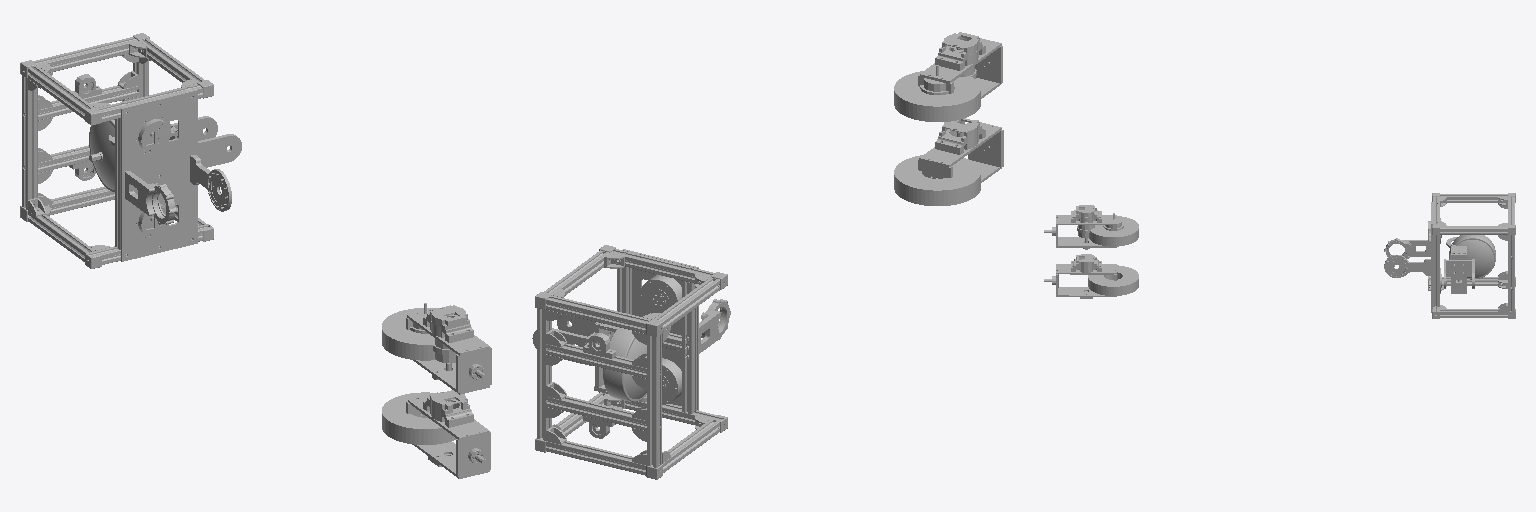
robot.urdf — wheeled_inverted_pendulum:
<?xml version="1.0" encoding="utf-8"?>
<!-- This URDF was automatically created by SolidWorks to URDF Exporter! Originally created by [author] ([email redacted]) 
     Commit Version: 1.6.0-4-g7f85cfe  Build Version: 1.6.7995.38578
     For more information, please see http://wiki.ros.org/sw_urdf_exporter -->
<robot
  name="wheeled_inverted_pendulum">
  <link
    name="cmg_link">
    <inertial>
      <origin
        xyz="0.0025631 1.1523E-05 1.0493"
        rpy="0 0 0" />
      <mass
        value="0.87703" />
      <inertia
        ixx="0.0030285"
        ixy="-2.6681E-08"
        ixz="1.9895E-06"
        iyy="0.0023124"
        iyz="-8.0686E-08"
        izz="0.0040816" />
    </inertial>
    <visual>
      <origin
        xyz="0 0 0"
        rpy="0 0 0" />
      <geometry>
        <mesh
          filename="package://cmg_robot_description/meshes/cmg_link.STL" scale="0.001 0.001 0.001"/>
      </geometry>
      <material
        name="">
        <color
          rgba="0.75294 0.75294 0.75294 1" />
      </material>
    </visual>
    <collision>
      <origin
        xyz="0 0 0"
        rpy="0 0 0" />
      <geometry>
        <mesh
          filename="package://cmg_robot_description/meshes/cmg_link.STL" scale="0.001 0.001 0.001"/>
      </geometry>
    </collision>
  </link>
  <link
    name="right_gimbal_link">
    <inertial>
      <origin
        xyz="7.5544E-18 2.0817E-15 -0.08"
        rpy="0 0 0" />
      <mass
        value="0.10901" />
      <inertia
        ixx="0.00038161"
        ixy="5.6624E-20"
        ixz="-3.8405E-19"
        iyy="0.00035801"
        iyz="7.4731E-18"
        izz="6.7406E-05" />
    </inertial>
    <visual>
      <origin
        xyz="0 0 0"
        rpy="0 0 0" />
      <geometry>
        <mesh
          filename="package://cmg_robot_description/meshes/right_gimbal_link.STL" scale="0.001 0.001 0.001"/>
      </geometry>
      <material
        name="">
        <color
          rgba="0.75294 0.75294 0.75294 1" />
      </material>
    </visual>
    <collision>
      <origin
        xyz="0 0 0"
        rpy="0 0 0" />
      <geometry>
        <mesh
          filename="package://cmg_robot_description/meshes/right_gimbal_link.STL" scale="0.001 0.001 0.001"/>
      </geometry>
    </collision>
  </link>
  <joint
    name="right_gimbal_joint"
    type="revolute">
    <origin
      xyz="0 -1.1334 -0.08"
      rpy="1.5708 0 0" />
    <parent
      link="cmg_link" />
    <child
      link="right_gimbal_link" />
    <axis
      xyz="0 0 0" />
    <limit
      lower="0"
      upper="0"
      effort="0"
      velocity="0" />
  </joint>
  <link
    name="right_flywheel_link">
    <inertial>
      <origin
        xyz="1.6599E-18 0 2.2204E-16"
        rpy="0 0 0" />
      <mass
        value="0.52779" />
      <inertia
        ixx="0.00078508"
        ixy="-7.1944E-24"
        ixz="1.4427E-25"
        iyy="0.001491"
        iyz="1.8268E-17"
        izz="0.00078508" />
    </inertial>
    <visual>
      <origin
        xyz="0 0 0"
        rpy="0 0 0" />
      <geometry>
        <mesh
          filename="package://cmg_robot_description/meshes/right_flywheel_link.STL" scale="0.001 0.001 0.001"/>
      </geometry>
      <material
        name="">
        <color
          rgba="0.75294 0.75294 0.75294 1" />
      </material>
    </visual>
    <collision>
      <origin
        xyz="0 0 0"
        rpy="0 0 0" />
      <geometry>
        <mesh
          filename="package://cmg_robot_description/meshes/right_flywheel_link.STL" scale="0.001 0.001 0.001"/>
      </geometry>
    </collision>
  </link>
  <joint
    name="right_flywheel_joint"
    type="continuous">
    <origin
      xyz="0 0 -0.08"
      rpy="0 0 0" />
    <parent
      link="right_gimbal_link" />
    <child
      link="right_flywheel_link" />
    <axis
      xyz="0 0 0" />
  </joint>
  <link
    name="left_gimbal_link">
    <inertial>
      <origin
        xyz="-1.3085E-18 2.0817E-15 -0.08"
        rpy="0 0 0" />
      <mass
        value="0.10901" />
      <inertia
        ixx="0.00038161"
        ixy="4.538E-20"
        ixz="-3.2977E-19"
        iyy="0.00035801"
        iyz="7.5383E-18"
        izz="6.7406E-05" />
    </inertial>
    <visual>
      <origin
        xyz="0 0 0"
        rpy="0 0 0" />
      <geometry>
        <mesh
          filename="package://cmg_robot_description/meshes/left_gimbal_link.STL" scale="0.001 0.001 0.001"/>
      </geometry>
      <material
        name="">
        <color
          rgba="0.75294 0.75294 0.75294 1" />
      </material>
    </visual>
    <collision>
      <origin
        xyz="0 0 0"
        rpy="0 0 0" />
      <geometry>
        <mesh
          filename="package://cmg_robot_description/meshes/left_gimbal_link.STL" scale="0.001 0.001 0.001"/>
      </geometry>
    </collision>
  </link>
  <joint
    name="left_gimbal_joint"
    type="revolute">
    <origin
      xyz="0 -1.1334 0.08"
      rpy="1.5708 0 0" />
    <parent
      link="cmg_link" />
    <child
      link="left_gimbal_link" />
    <axis
      xyz="0 0 0" />
    <limit
      lower="0"
      upper="0"
      effort="0"
      velocity="0" />
  </joint>
  <link
    name="left_flywheel_link">
    <inertial>
      <origin
        xyz="1.6539E-18 1.3878E-17 0"
        rpy="0 0 0" />
      <mass
        value="0.52779" />
      <inertia
        ixx="0.00078508"
        ixy="-7.1049E-19"
        ixz="1.2973E-25"
        iyy="0.001491"
        iyz="1.8268E-17"
        izz="0.00078508" />
    </inertial>
    <visual>
      <origin
        xyz="0 0 0"
        rpy="0 0 0" />
      <geometry>
        <mesh
          filename="package://cmg_robot_description/meshes/left_flywheel_link.STL" scale="0.001 0.001 0.001"/>
      </geometry>
      <material
        name="">
        <color
          rgba="0.75294 0.75294 0.75294 1" />
      </material>
    </visual>
    <collision>
      <origin
        xyz="0 0 0"
        rpy="0 0 0" />
      <geometry>
        <mesh
          filename="package://cmg_robot_description/meshes/left_flywheel_link.STL" scale="0.001 0.001 0.001"/>
      </geometry>
    </collision>
  </link>
  <joint
    name="left_flywheel_joint"
    type="continuous">
    <origin
      xyz="0 0 -0.08"
      rpy="0 0 0" />
    <parent
      link="left_gimbal_link" />
    <child
      link="left_flywheel_link" />
    <axis
      xyz="0 0 0" />
  </joint>
  <link
    name="hip_link">
    <inertial>
      <origin
        xyz="0.055136 -0.0092612 -0.030425"
        rpy="0 0 0" />
      <mass
        value="0.57446" />
      <inertia
        ixx="0.00035258"
        ixy="-2.3527E-07"
        ixz="-2.793E-07"
        iyy="0.00031359"
        iyz="1.7337E-05"
        izz="0.00032643" />
    </inertial>
    <visual>
      <origin
        xyz="0 0 0"
        rpy="0 0 0" />
      <geometry>
        <mesh
          filename="package://cmg_robot_description/meshes/hip_link.STL" scale="0.001 0.001 0.001"/>
      </geometry>
      <material
        name="">
        <color
          rgba="0.63922 0.63922 0.68627 1" />
      </material>
    </visual>
    <collision>
      <origin
        xyz="0 0 0"
        rpy="0 0 0" />
      <geometry>
        <mesh
          filename="package://cmg_robot_description/meshes/hip_link.STL" scale="0.001 0.001 0.001"/>
      </geometry>
    </collision>
  </link>
  <joint
    name="hip_joint"
    type="revolute">
    <origin
      xyz="0.069045 -0.81144 0.036373"
      rpy="0.6095 0 -3.1416" />
    <parent
      link="cmg_link" />
    <child
      link="hip_link" />
    <axis
      xyz="0 0 0" />
    <limit
      lower="0"
      upper="0"
      effort="0"
      velocity="0" />
  </joint>
  <link
    name="hip_to_knee_link">
    <inertial>
      <origin
        xyz="0.023173 0.059963 0.14958"
        rpy="0 0 0" />
      <mass
        value="0.66754" />
      <inertia
        ixx="0.0014323"
        ixy="1.7203E-07"
        ixz="-3.9009E-06"
        iyy="0.0015067"
        iyz="-1.4622E-06"
        izz="0.00045892" />
    </inertial>
    <visual>
      <origin
        xyz="0 0 0"
        rpy="0 0 0" />
      <geometry>
        <mesh
          filename="package://cmg_robot_description/meshes/hip_to_knee_link.STL" scale="0.001 0.001 0.001"/>
      </geometry>
      <material
        name="">
        <color
          rgba="0.75294 0.75294 0.75294 1" />
      </material>
    </visual>
    <collision>
      <origin
        xyz="0 0 0"
        rpy="0 0 0" />
      <geometry>
        <mesh
          filename="package://cmg_robot_description/meshes/hip_to_knee_link.STL" scale="0.001 0.001 0.001"/>
      </geometry>
    </collision>
  </link>
  <joint
    name="hip_to_knee_joint"
    type="revolute">
    <origin
      xyz="0.069 0.034465 0.01268"
      rpy="-0.96129 0 3.1416" />
    <parent
      link="hip_link" />
    <child
      link="hip_to_knee_link" />
    <axis
      xyz="0 0 0" />
    <limit
      lower="0"
      upper="0"
      effort="0"
      velocity="0" />
  </joint>
  <link
    name="knee_ankle_pitch_link">
    <inertial>
      <origin
        xyz="0.015126 -0.060992 0.10016"
        rpy="0 0 0" />
      <mass
        value="0.55653" />
      <inertia
        ixx="0.00081117"
        ixy="-4.9761E-07"
        ixz="2.7151E-05"
        iyy="0.00085587"
        iyz="7.1656E-07"
        izz="0.0003606" />
    </inertial>
    <visual>
      <origin
        xyz="0 0 0"
        rpy="0 0 0" />
      <geometry>
        <mesh
          filename="package://cmg_robot_description/meshes/knee_ankle_pitch_link.STL" scale="0.001 0.001 0.001"/>
      </geometry>
      <material
        name="">
        <color
          rgba="0.75294 0.75294 0.75294 1" />
      </material>
    </visual>
    <collision>
      <origin
        xyz="0 0 0"
        rpy="0 0 0" />
      <geometry>
        <mesh
          filename="package://cmg_robot_description/meshes/knee_ankle_pitch_link.STL" scale="0.001 0.001 0.001"/>
      </geometry>
    </collision>
  </link>
  <joint
    name="knee_ankle_pitch_joint"
    type="revolute">
    <origin
      xyz="0 0.1255 0.28"
      rpy="0 0 0" />
    <parent
      link="hip_to_knee_link" />
    <child
      link="knee_ankle_pitch_link" />
    <axis
      xyz="0 0 0" />
    <limit
      lower="0"
      upper="0"
      effort="0"
      velocity="0" />
  </joint>
  <link
    name="ankle_roll_link">
    <inertial>
      <origin
        xyz="0.014548 -0.005687 -0.0068274"
        rpy="0 0 0" />
      <mass
        value="0.47693" />
      <inertia
        ixx="0.00025647"
        ixy="-3.9374E-07"
        ixz="-3.9108E-08"
        iyy="0.0002565"
        iyz="7.4861E-08"
        izz="0.00022539" />
    </inertial>
    <visual>
      <origin
        xyz="0 0 0"
        rpy="0 0 0" />
      <geometry>
        <mesh
          filename="package://cmg_robot_description/meshes/ankle_roll_link.STL" scale="0.001 0.001 0.001"/>
      </geometry>
      <material
        name="">
        <color
          rgba="0.75294 0.75294 0.75294 1" />
      </material>
    </visual>
    <collision>
      <origin
        xyz="0 0 0"
        rpy="0 0 0" />
      <geometry>
        <mesh
          filename="package://cmg_robot_description/meshes/ankle_roll_link.STL" scale="0.001 0.001 0.001"/>
      </geometry>
    </collision>
  </link>
  <joint
    name="ankle_roll_joint"
    type="revolute">
    <origin
      xyz="-4.5069E-05 -0.059 0.27994"
      rpy="0 0 0" />
    <parent
      link="knee_ankle_pitch_link" />
    <child
      link="ankle_roll_link" />
    <axis
      xyz="0 0 0" />
    <limit
      lower="0"
      upper="0"
      effort="0"
      velocity="0" />
  </joint>
  <link
    name="ankle_yaw_link">
    <inertial>
      <origin
        xyz="-0.087885 -7.8167E-05 0.093558"
        rpy="0 0 0" />
      <mass
        value="0.3259" />
      <inertia
        ixx="0.00016896"
        ixy="9.2056E-08"
        ixz="2.2541E-06"
        iyy="0.00021012"
        iyz="1.2708E-13"
        izz="0.00020666" />
    </inertial>
    <visual>
      <origin
        xyz="0 0 0"
        rpy="0 0 0" />
      <geometry>
        <mesh
          filename="package://cmg_robot_description/meshes/ankle_yaw_link.STL" scale="0.001 0.001 0.001"/>
      </geometry>
      <material
        name="">
        <color
          rgba="0.75294 0.75294 0.75294 1" />
      </material>
    </visual>
    <collision>
      <origin
        xyz="0 0 0"
        rpy="0 0 0" />
      <geometry>
        <mesh
          filename="package://cmg_robot_description/meshes/ankle_yaw_link.STL" scale="0.001 0.001 0.001"/>
      </geometry>
    </collision>
  </link>
  <joint
    name="ankle_yaw_joint"
    type="revolute">
    <origin
      xyz="0.0825 0 0"
      rpy="0 0 0" />
    <parent
      link="ankle_roll_link" />
    <child
      link="ankle_yaw_link" />
    <axis
      xyz="0 0 0" />
    <limit
      lower="0"
      upper="0"
      effort="0"
      velocity="0" />
  </joint>
  <link
    name="ankle_to_wheel_link">
    <inertial>
      <origin
        xyz="1.742E-13 0.014242 7.8661E-18"
        rpy="0 0 0" />
      <mass
        value="0.10784" />
      <inertia
        ixx="0.0001838"
        ixy="3.4599E-16"
        ixz="2.8535E-21"
        iyy="0.00020739"
        iyz="-1.8561E-20"
        izz="0.0003502" />
    </inertial>
    <visual>
      <origin
        xyz="0 0 0"
        rpy="0 0 0" />
      <geometry>
        <mesh
          filename="package://cmg_robot_description/meshes/ankle_to_wheel_link.STL" scale="0.001 0.001 0.001"/>
      </geometry>
      <material
        name="">
        <color
          rgba="0.75294 0.75294 0.75294 1" />
      </material>
    </visual>
    <collision>
      <origin
        xyz="0 0 0"
        rpy="0 0 0" />
      <geometry>
        <mesh
          filename="package://cmg_robot_description/meshes/ankle_to_wheel_link.STL" scale="0.001 0.001 0.001"/>
      </geometry>
    </collision>
  </link>
  <joint
    name="ankle_to_wheel_link"
    type="revolute">
    <origin
      xyz="-0.0825 0 0.2325"
      rpy="-1.5708 0 1.5708" />
    <parent
      link="ankle_yaw_link" />
    <child
      link="ankle_to_wheel_link" />
    <axis
      xyz="0 0 0" />
    <limit
      lower="0"
      upper="0"
      effort="0"
      velocity="0" />
  </joint>
  <link
    name="wheel_link">
    <inertial>
      <origin
        xyz="1.7655E-17 4.394E-18 -1.8757E-18"
        rpy="0 0 0" />
      <mass
        value="0.99712" />
      <inertia
        ixx="0.0032469"
        ixy="6.0305E-19"
        ixz="5.5508E-36"
        iyy="0.0018065"
        iyz="1.2749E-35"
        izz="0.0018065" />
    </inertial>
    <visual>
      <origin
        xyz="0 0 0"
        rpy="0 0 0" />
      <geometry>
        <mesh
          filename="package://cmg_robot_description/meshes/wheel_link.STL" scale="0.001 0.001 0.001"/>
      </geometry>
      <material
        name="">
        <color
          rgba="0.75294 0.75294 0.75294 1" />
      </material>
    </visual>
    <collision>
      <origin
        xyz="0 0 0"
        rpy="0 0 0" />
      <geometry>
        <mesh
          filename="package://cmg_robot_description/meshes/wheel_link.STL" scale="0.001 0.001 0.001" />
      </geometry>
    </collision>
  </link>
  <joint
    name="wheel_joint"
    type="revolute">
    <origin
      xyz="0 -0.04 0"
      rpy="1.5708 0 3.1416" />
    <parent
      link="ankle_to_wheel_link" />
    <child
      link="wheel_link" />
    <axis
      xyz="0 0 0" />
    <limit
      lower="0"
      upper="0"
      effort="0"
      velocity="0" />
  </joint>
</robot>

--- Render facts (derived) ---
The picture shows the robot from 3 angles, left to right: view 1: azimuth 30°, elevation 25°; view 2: azimuth 150°, elevation 25°; view 3: azimuth 270°, elevation 25°; orthographic projection.
Model wheeled_inverted_pendulum with 12 links and 11 joints (9 revolute, 2 continuous), rooted at cmg_link, posed all joints at 0.
Visible links, largest first — view 1: cmg_link, left_gimbal_link, right_gimbal_link, right_flywheel_link, left_flywheel_link, ankle_to_wheel_link, wheel_link; view 2: cmg_link, right_gimbal_link, left_flywheel_link, left_gimbal_link, right_flywheel_link, wheel_link, ankle_to_wheel_link; view 3: cmg_link, left_gimbal_link, right_gimbal_link, ankle_to_wheel_link, wheel_link, right_flywheel_link, left_flywheel_link.
Link boxes in pixels (left/top/right/bottom): cmg_link: left=20, top=33, right=231, bottom=268; left_gimbal_link: left=406, top=305, right=491, bottom=394; right_gimbal_link: left=406, top=390, right=490, bottom=478; right_flywheel_link: left=382, top=392, right=455, bottom=444; left_flywheel_link: left=382, top=303, right=435, bottom=360; ankle_to_wheel_link: left=109, top=116, right=241, bottom=167; wheel_link: left=89, top=120, right=114, bottom=192; cmg_link: left=535, top=245, right=730, bottom=479; right_gimbal_link: left=918, top=118, right=1003, bottom=182; left_flywheel_link: left=894, top=65, right=980, bottom=121; left_gimbal_link: left=918, top=32, right=1002, bottom=98; right_flywheel_link: left=894, top=155, right=980, bottom=205; wheel_link: left=603, top=328, right=646, bottom=401; ankle_to_wheel_link: left=532, top=314, right=646, bottom=402; cmg_link: left=1384, top=193, right=1515, bottom=318; left_gimbal_link: left=1044, top=205, right=1116, bottom=249; right_gimbal_link: left=1044, top=254, right=1116, bottom=298; ankle_to_wheel_link: left=1444, top=237, right=1474, bottom=293; wheel_link: left=1449, top=235, right=1495, bottom=279; right_flywheel_link: left=1088, top=265, right=1138, bottom=295; left_flywheel_link: left=1089, top=213, right=1138, bottom=246.
Bounding box of the posed robot: 0.3181 × 1.38 × 0.3 m (x, y, z).
7 mesh visuals loaded from 12 distinct referenced files (7 binary STL); not drawn: 5 (reference not matched to a file when rendering).